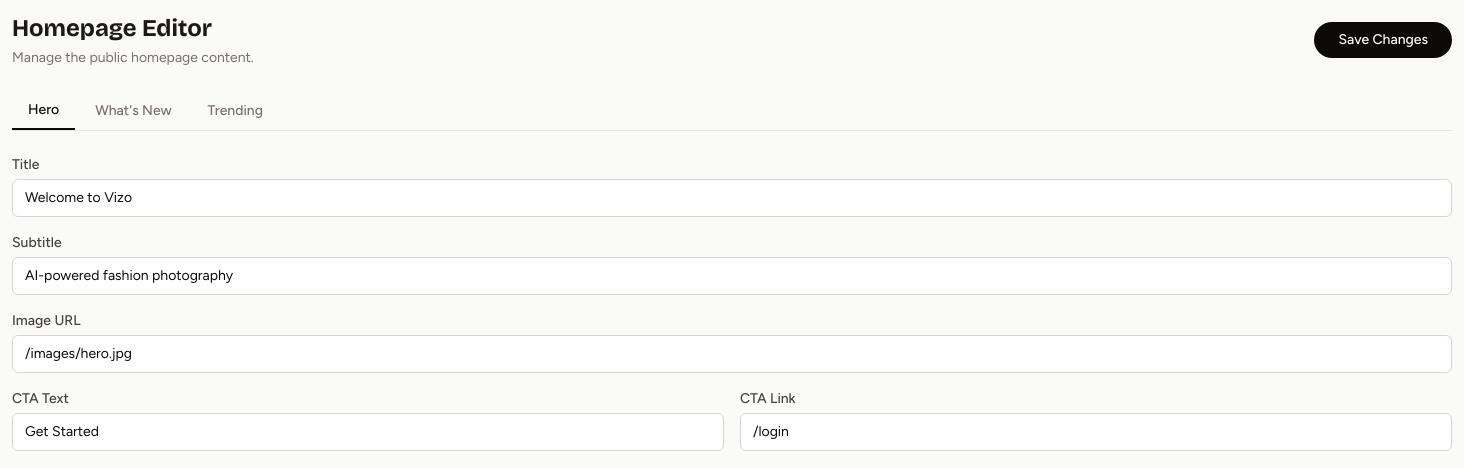
Test: HomepageEditor › switches to Whats New tab and shows Add Card button
What coordinates should you click on to do the following:
click the button "What's New"
I would click on:
 (133, 111)
Its box is top-left (79, 92), bottom-right (188, 130).
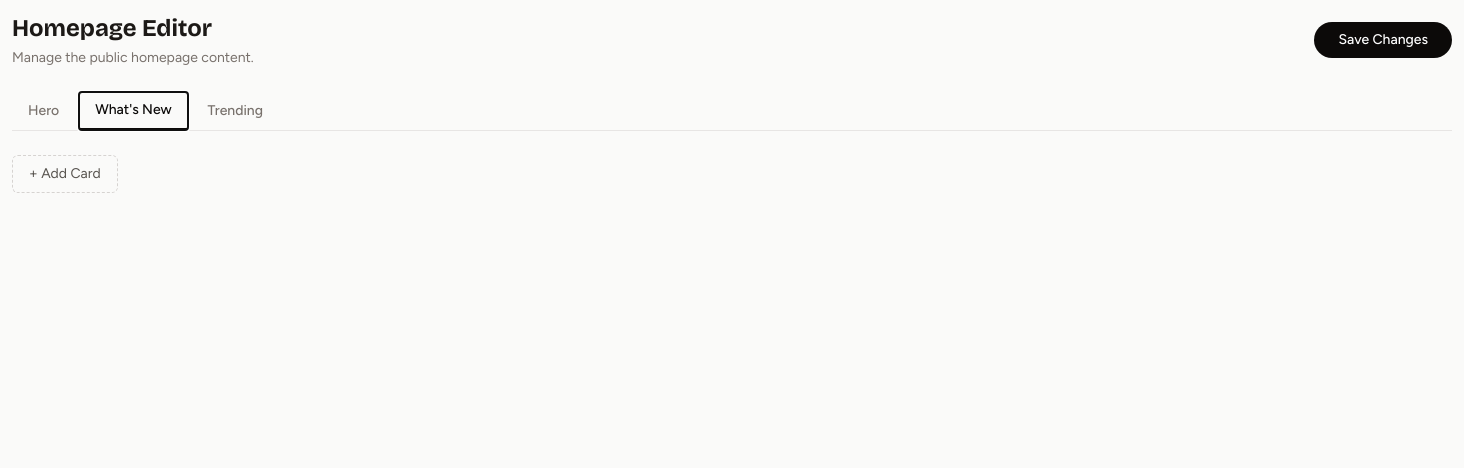
Now the button "+ Add Card" is shown, box top-left (12, 155), bottom-right (118, 193)
